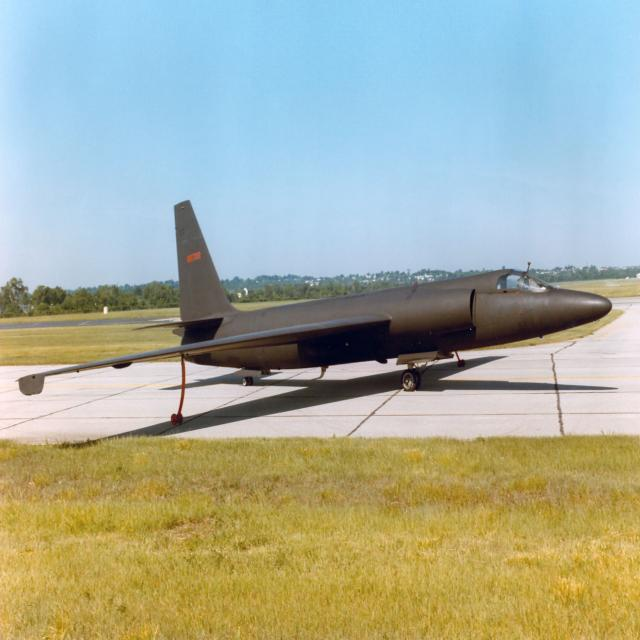MIL_Plane: (13, 199, 612, 425)
